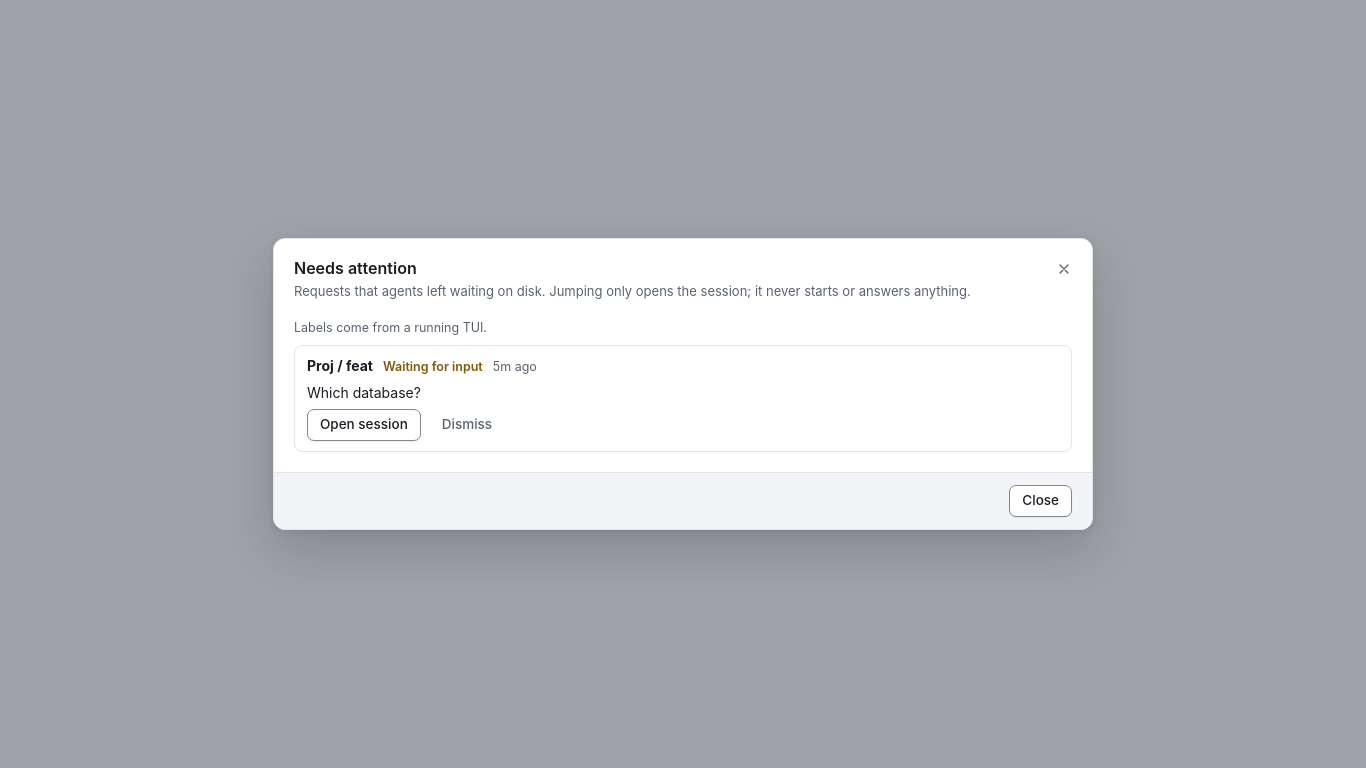
shows a refusal from the backend and keeps the row
The width and height of the screenshot is (1366, 768).
Click the button with aria-label "Dismiss feat" at (467, 425), box [429,409,505,441]
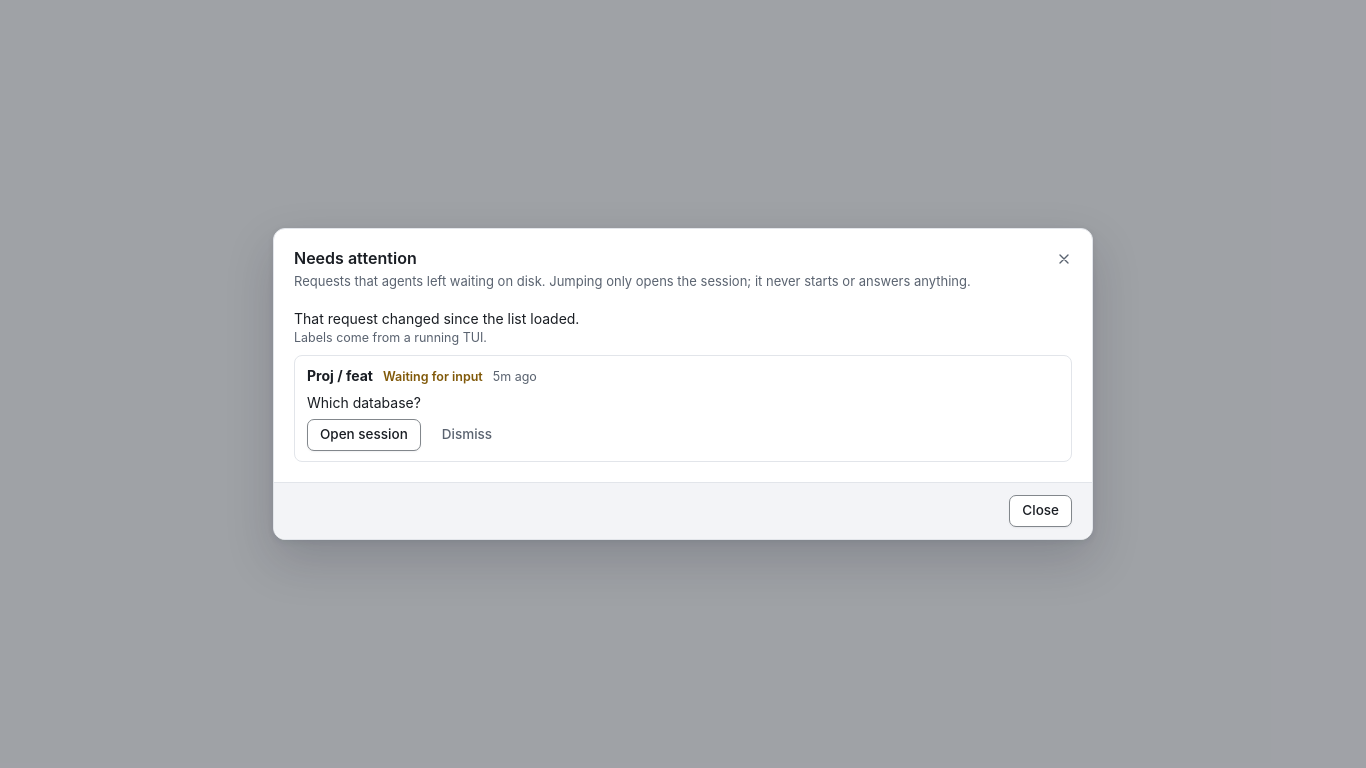
Expected: the text "Which database?" is shown, [307,394,421,411]
Expected: the message shows "changed since the list loaded", [294,310,579,327]
